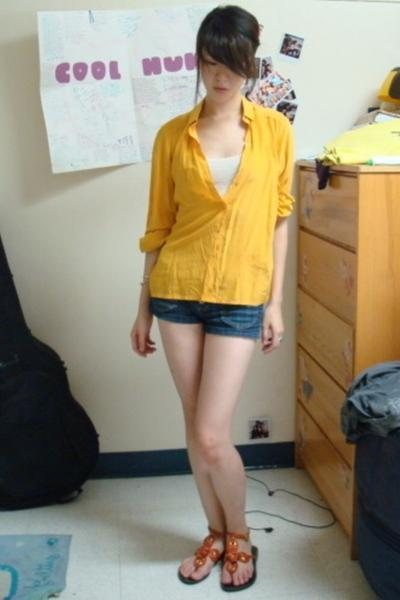shirt: (140, 100, 294, 304)
shoe: (180, 530, 257, 586)
shorts: (146, 294, 264, 338)
